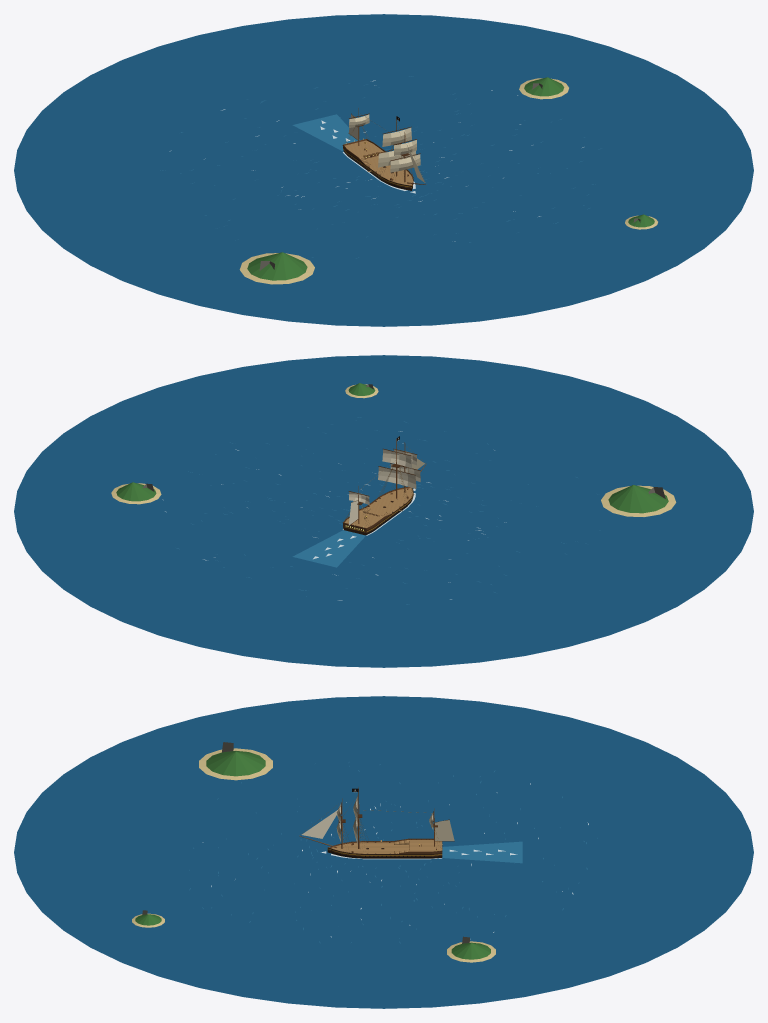
File: ship.glb
The picture shows the model from 3 angles, top to bottom: view 1: azimuth 30°, elevation 25°; view 2: azimuth 150°, elevation 25°; view 3: azimuth 270°, elevation 25°; orthographic projection.
Visible parts, largest first — view 1: Ship, Ship.Rigging; view 2: Ship, Ship.Rigging; view 3: Ship, Ship.Rigging.
Part boxes in pixels (x1,y1,x2,y2): Ship: (14, 14, 753, 326); Ship.Rigging: (343, 108, 426, 184); Ship: (14, 355, 753, 667); Ship.Rigging: (344, 436, 426, 526); Ship: (14, 696, 753, 1008); Ship.Rigging: (299, 787, 454, 853).
Size of the model in its own units: 440 by 44.14 by 440.
